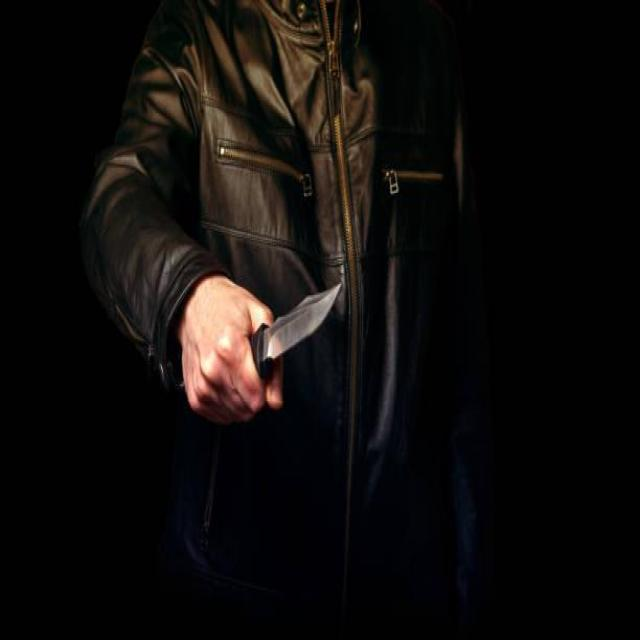faca: (168, 257, 348, 444)
